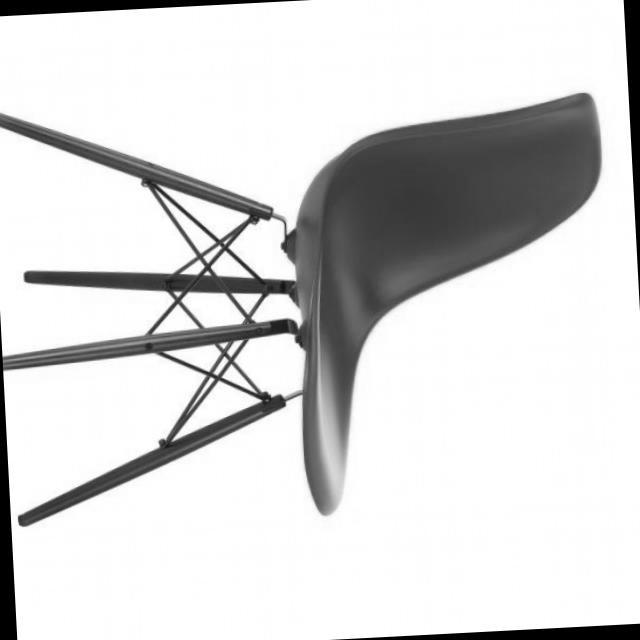chair: (0, 81, 619, 528)
